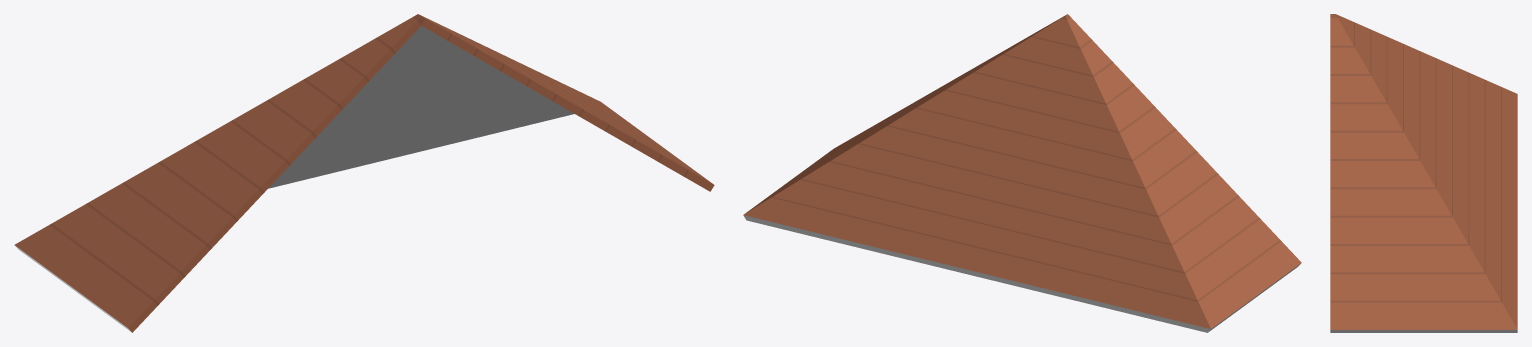
File: Roof2_C5_02.fbx
3 views of the same model, side by side, from view 1: azimuth 30°, elevation 25°; view 2: azimuth 150°, elevation 25°; view 3: azimuth 270°, elevation 25° (orthographic). The views are drawn at different scales.
Visible parts, largest first — view 1: Roof2_C5_02; view 2: Roof2_C5_02; view 3: Roof2_C5_02.
Part boxes in pixels (<box>): Roof2_C5_02: <box>14,14,714,332</box>; Roof2_C5_02: <box>743,14,1301,332</box>; Roof2_C5_02: <box>1330,14,1517,332</box>.
Size of the model in its own units: 833 by 334 by 280.
